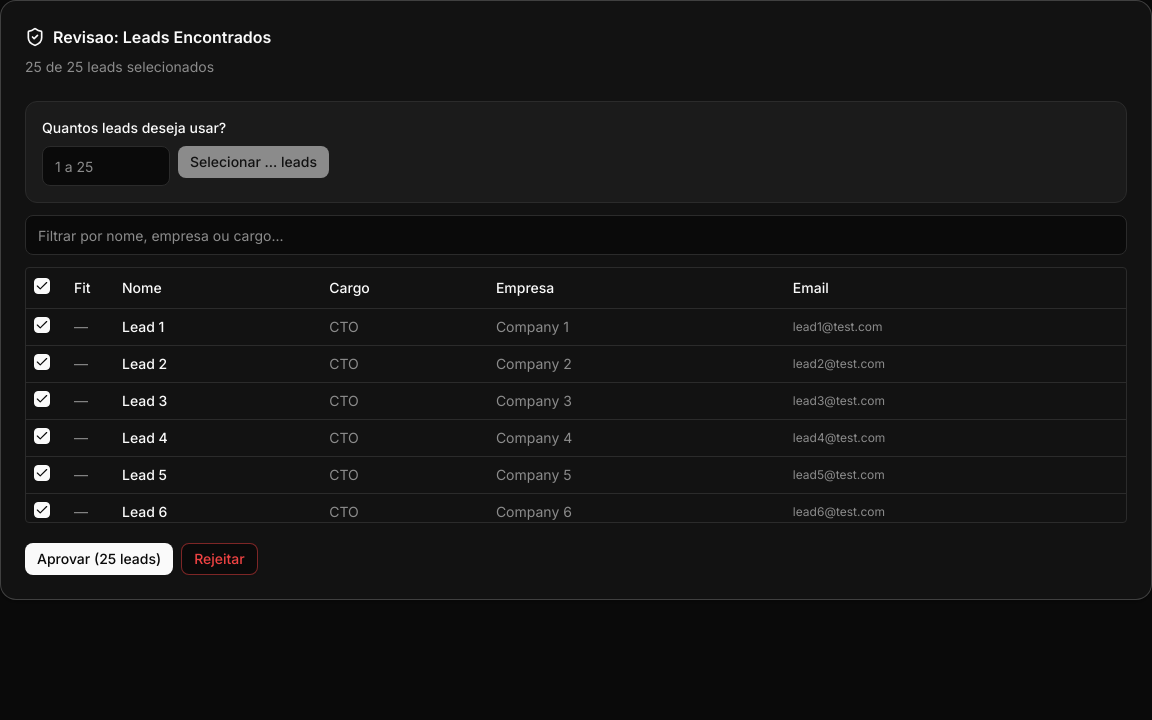
AgentLeadReview (AC: #3, #4) › Story 24.13 - leadCount (N) na revisao › Q <= leads carregados: 'Selecionar Q leads' reseleciona os Q primeiros, sem fetch
Type "10" into the number field with test id "lead-quantity-input". click: [106, 166]
box: [42,146,170,186]
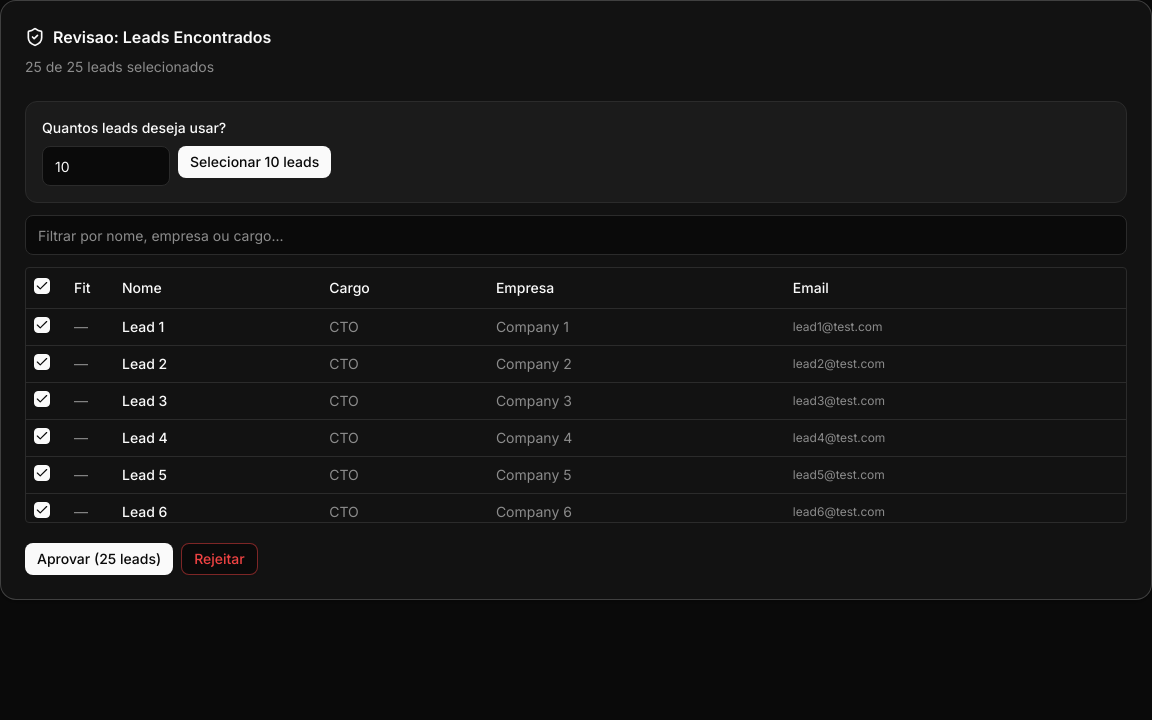
Click the button "Selecionar 10 leads". click: [255, 162]
box: [178,146,331,178]
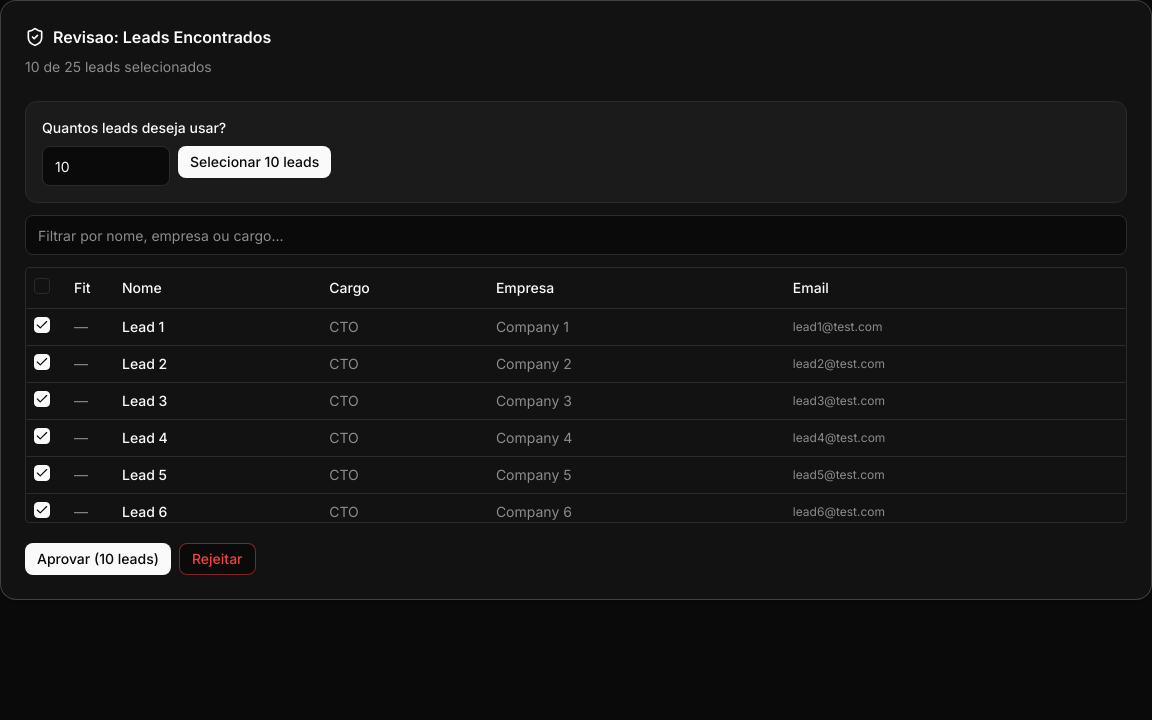
Expected: the text "10 de 25 leads selecionados" is shown, [25,58,212,75]
